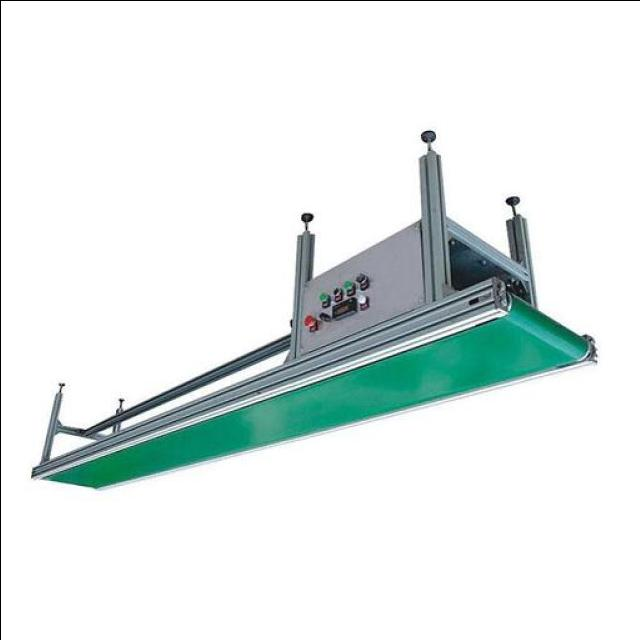conveyor: (36, 288, 593, 489)
